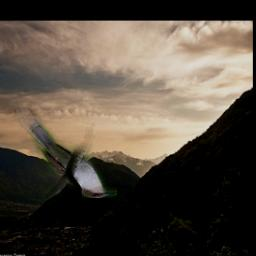Cuckoo: (16, 105, 118, 199)
